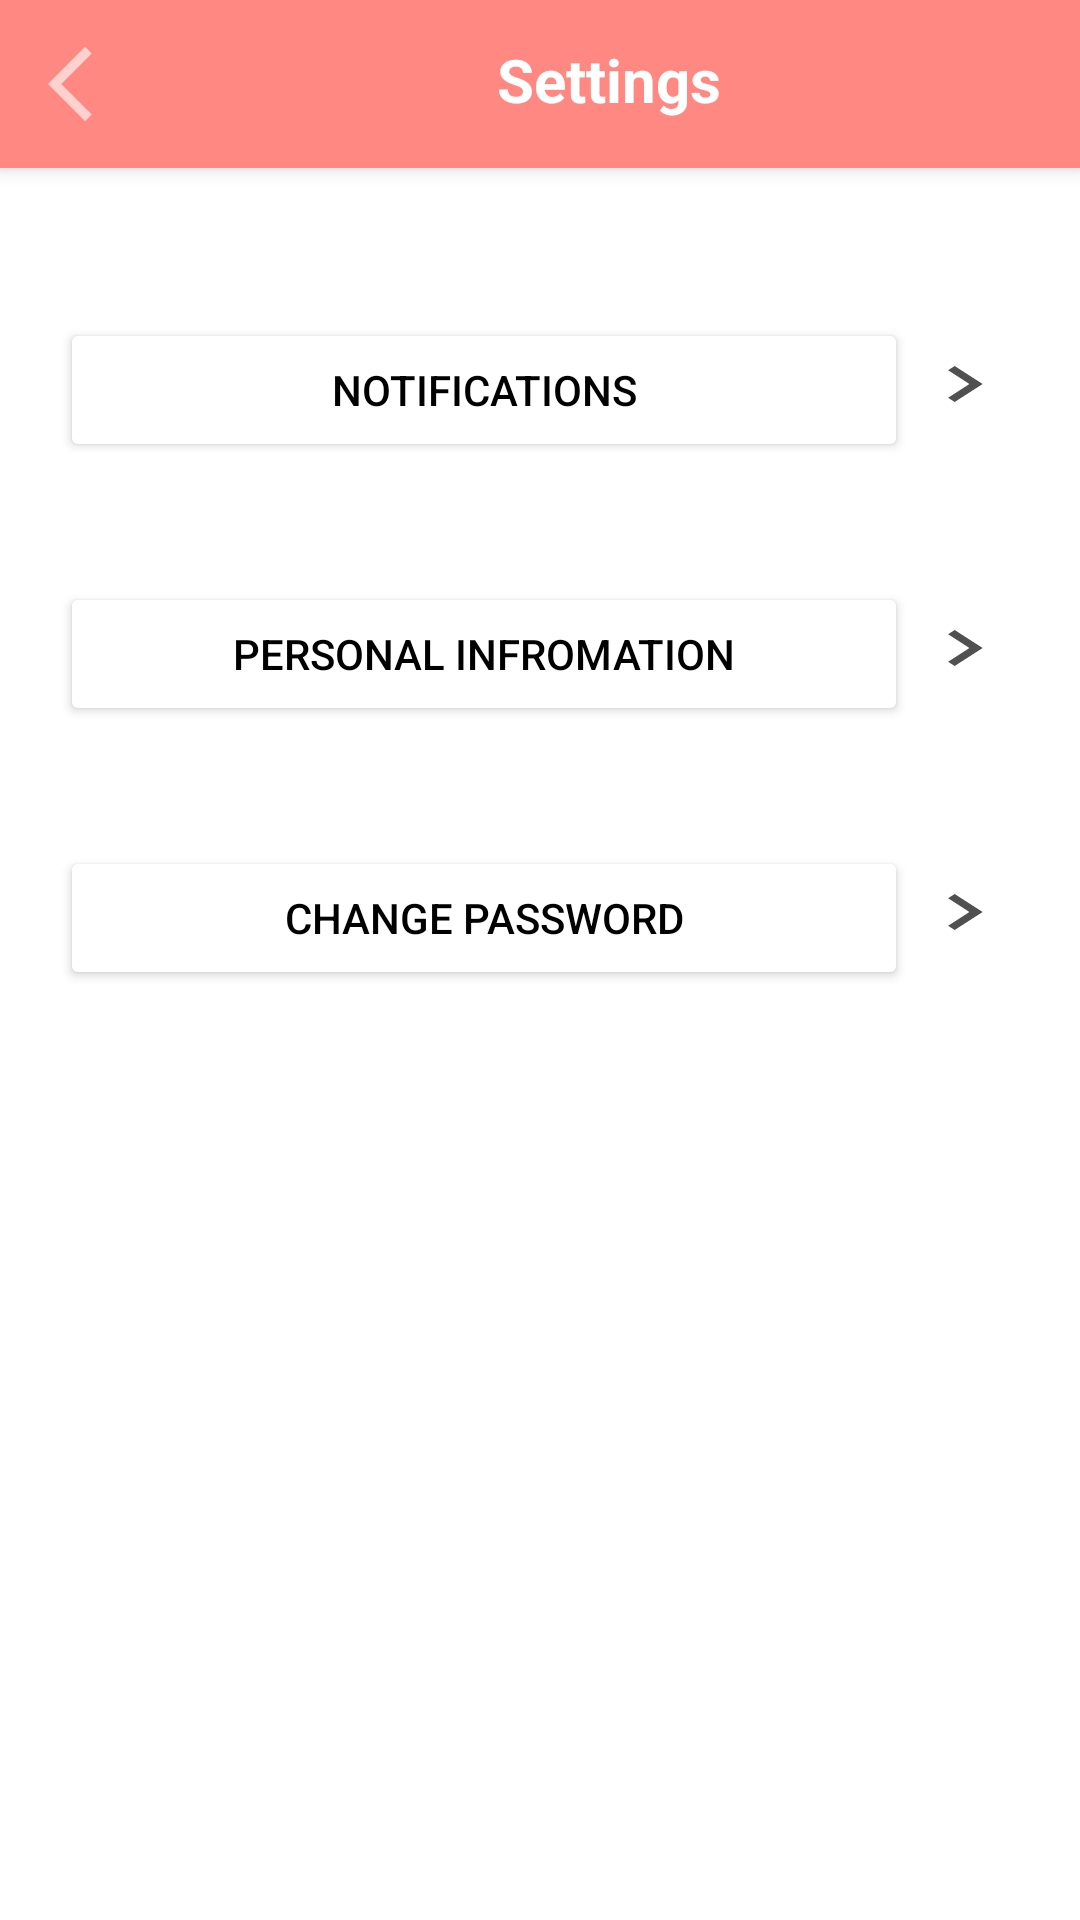

Icon bounding boxes for this 1080px×1920px phone screenshot, format box(x1, y1, x2, y2):
left back: box(48, 47, 92, 121)
right click: box(948, 366, 982, 402), box(948, 630, 982, 666), box(948, 894, 982, 930)
